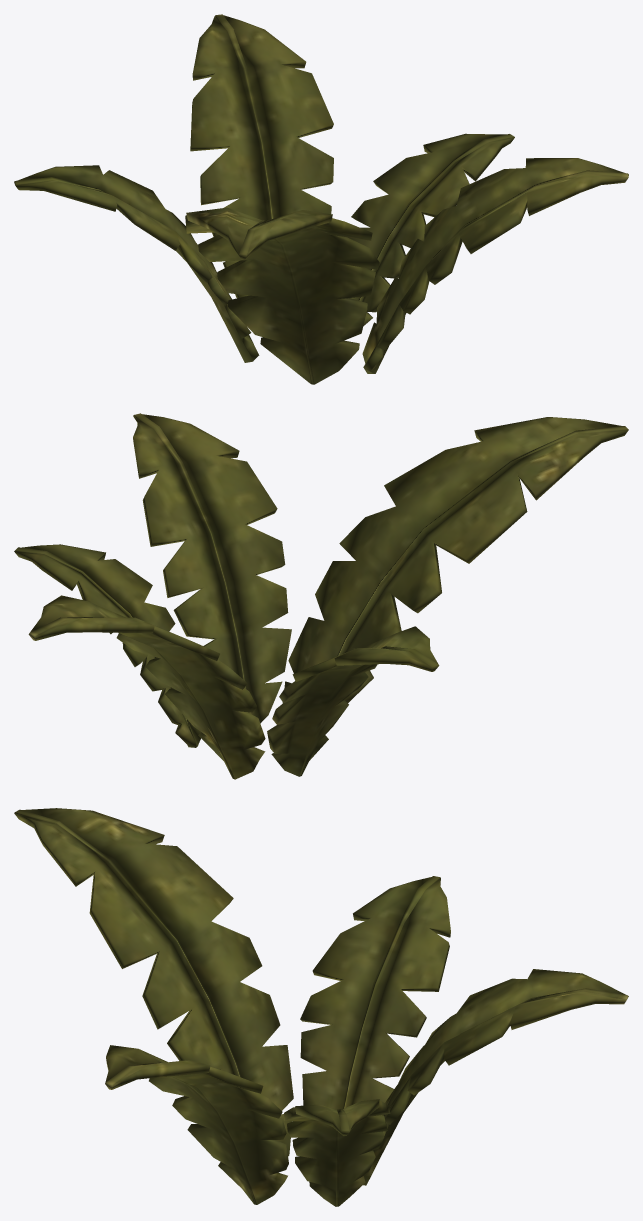
Rendered from grass_3_medium.fbx.
3 views of the same model, one above another, from view 1: azimuth 30°, elevation 25°; view 2: azimuth 150°, elevation 25°; view 3: azimuth 270°, elevation 25° (orthographic). The views are drawn at different scales.
Visible parts, largest first — view 1: grass_3_medium; view 2: grass_3_medium; view 3: grass_3_medium.
Boxes of the visible parts, x1,y1,x2,y2 form: grass_3_medium: [14, 14, 628, 384]; grass_3_medium: [14, 413, 628, 779]; grass_3_medium: [14, 808, 628, 1206].
Bounding box in the file's own units: 191 × 111 × 221.
